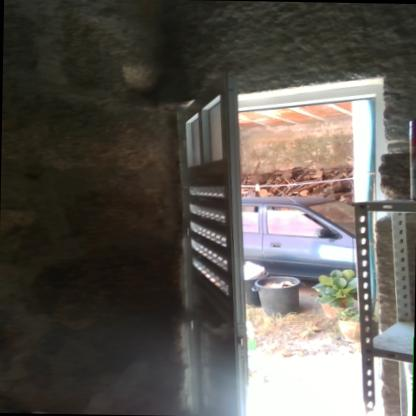semi: (159, 52, 392, 416)
